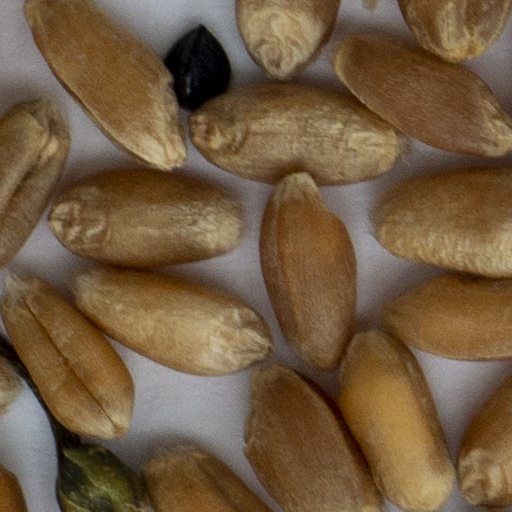Fallopia-Convolvulus-poly: (173, 28, 228, 108)
